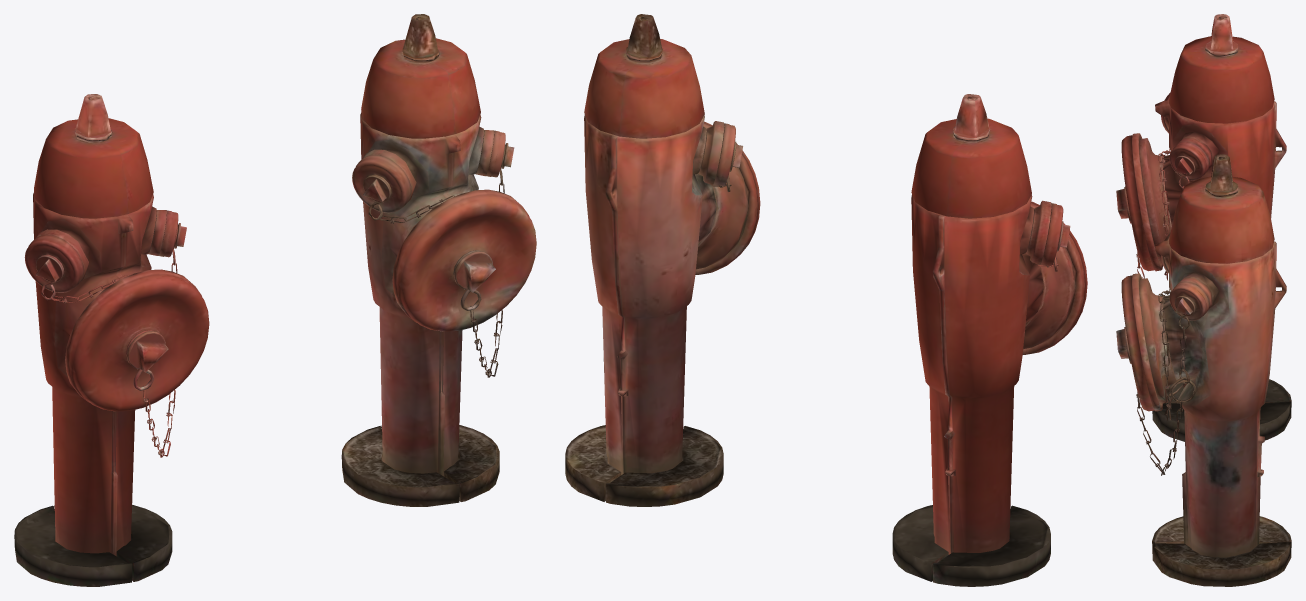
File: fire-hydrant.glb
The picture shows the model from 3 angles, left to right: view 1: azimuth 30°, elevation 25°; view 2: azimuth 150°, elevation 25°; view 3: azimuth 270°, elevation 25°; orthographic projection. The views are drawn at different scales.
Parts seen in each view (by area): view 1: fire_hydrant_aged, fire_hydrant, fire_hydrant_cap_01_aged, fire_hydrant_cap_01, fire_hydrant_cap_03_aged, fire_hydrant_cap_03, fire_hydrant_chain, fire_hydrant_chain_aged, fire_hydrant_cap_02_aged, fire_hydrant_cap_02; view 2: fire_hydrant, fire_hydrant_aged, fire_hydrant_cap_01_aged, fire_hydrant_cap_01, fire_hydrant_cap_03, fire_hydrant_cap_03_aged; view 3: fire_hydrant_aged, fire_hydrant, fire_hydrant_cap_01, fire_hydrant_cap_01_aged, fire_hydrant_chain_aged, fire_hydrant_cap_02, fire_hydrant_cap_02_aged, fire_hydrant_chain.
Boxes of the visible parts, left/top/right/bottom form: fire_hydrant_aged: left=341, top=14, right=499, bottom=506; fire_hydrant: left=14, top=94, right=172, bottom=586; fire_hydrant_cap_01_aged: left=392, top=189, right=536, bottom=331; fire_hydrant_cap_01: left=65, top=269, right=209, bottom=411; fire_hydrant_cap_03_aged: left=352, top=155, right=411, bottom=213; fire_hydrant_cap_03: left=24, top=235, right=84, bottom=292; fire_hydrant_chain: left=41, top=224, right=178, bottom=457; fire_hydrant_chain_aged: left=368, top=144, right=505, bottom=377; fire_hydrant_cap_02_aged: left=486, top=130, right=514, bottom=177; fire_hydrant_cap_02: left=158, top=210, right=186, bottom=257; fire_hydrant: left=892, top=94, right=1075, bottom=586; fire_hydrant_aged: left=565, top=14, right=747, bottom=506; fire_hydrant_cap_01_aged: left=695, top=121, right=760, bottom=274; fire_hydrant_cap_01: left=1022, top=201, right=1087, bottom=354; fire_hydrant_cap_03: left=1040, top=203, right=1070, bottom=266; fire_hydrant_cap_03_aged: left=713, top=123, right=742, bottom=186; fire_hydrant_aged: left=1139, top=154, right=1291, bottom=586; fire_hydrant: left=1139, top=14, right=1291, bottom=441; fire_hydrant_cap_01: left=1116, top=133, right=1162, bottom=271; fire_hydrant_cap_01_aged: left=1116, top=273, right=1162, bottom=411; fire_hydrant_chain_aged: left=1136, top=289, right=1196, bottom=475; fire_hydrant_cap_02: left=1169, top=141, right=1209, bottom=180; fire_hydrant_cap_02_aged: left=1169, top=281, right=1209, bottom=320; fire_hydrant_chain: left=1136, top=149, right=1193, bottom=280.
Size of the model in its own units: 0.8746 by 0.7994 by 0.3173.
Materials: 2 (2 with a texture image).
